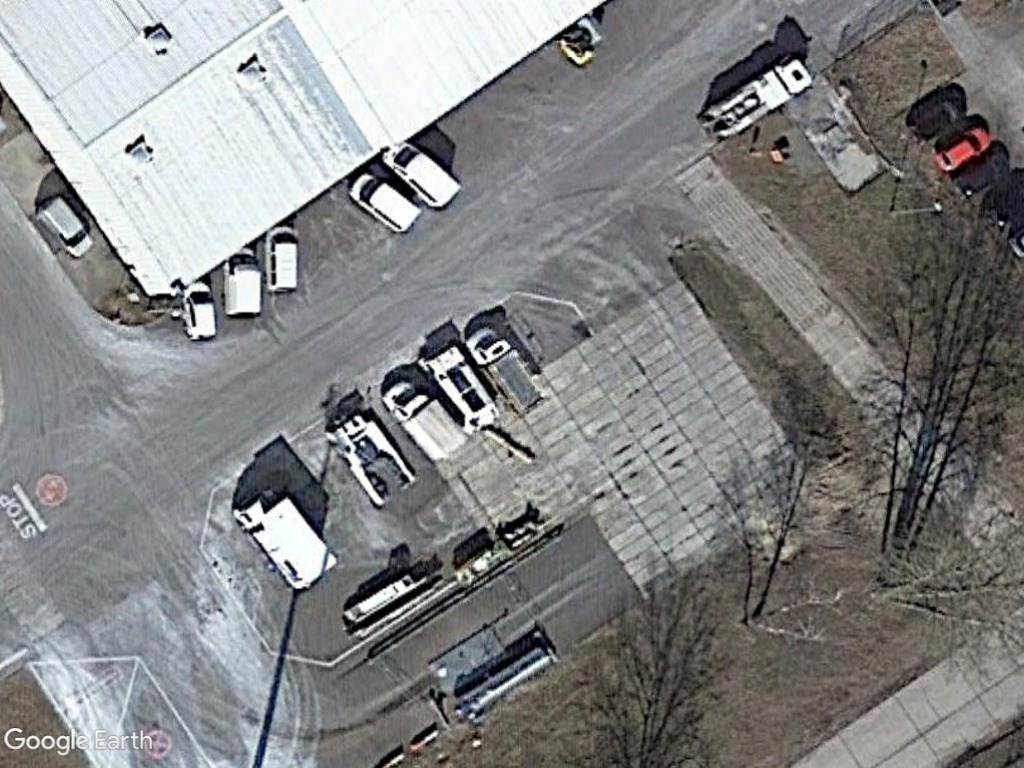car: (931, 124, 998, 176)
other: (696, 59, 816, 147), (464, 323, 547, 419)
truck: (232, 490, 343, 593), (382, 377, 471, 465)
van: (378, 144, 465, 211), (346, 170, 424, 235), (219, 242, 270, 324), (34, 196, 99, 260), (262, 216, 304, 297), (180, 277, 221, 344)
